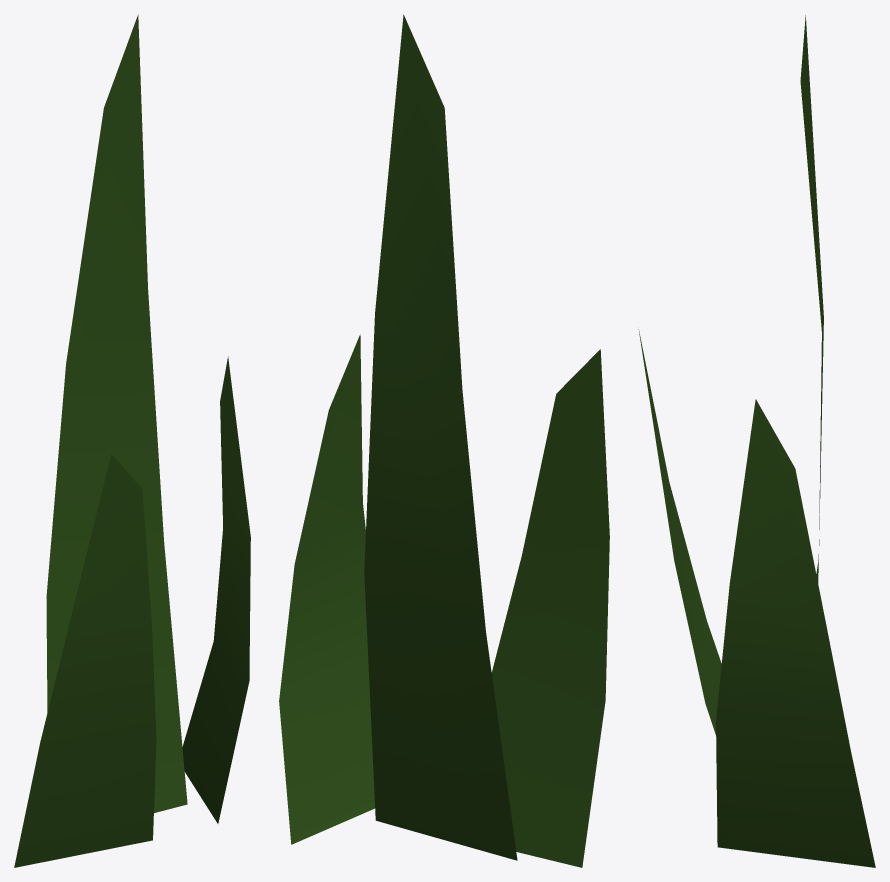
Rendered from cesped6.glb.
The picture shows the model from 3 angles, left to right: view 1: azimuth 30°, elevation 25°; view 2: azimuth 150°, elevation 25°; view 3: azimuth 270°, elevation 25°; orthographic projection. The views are drawn at different scales.
Visible parts, largest first — view 1: cesped 6; view 2: cesped 6; view 3: cesped 6.
Boxes of the visible parts, x1=… form: cesped 6: x1=14, y1=14, x2=250, y2=867; cesped 6: x1=279, y1=14, x2=609, y2=867; cesped 6: x1=638, y1=15, x2=875, y2=867.
Size of the model in its own units: 0.1985 by 0.6216 by 0.1612.
